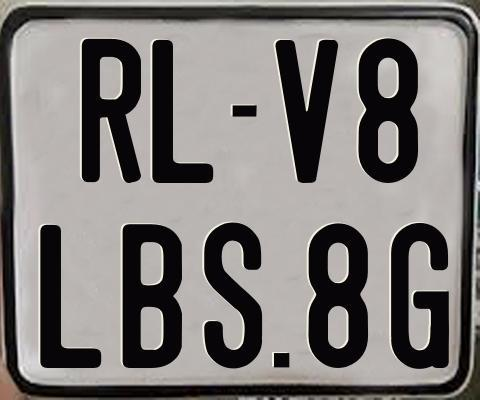8: (308, 223, 371, 368), (356, 35, 416, 182)
B: (123, 223, 187, 367)
G: (391, 223, 453, 370)
L: (37, 225, 101, 369), (149, 37, 212, 183)
R: (80, 39, 141, 184)
S: (203, 221, 267, 371)
V: (273, 39, 336, 188)
